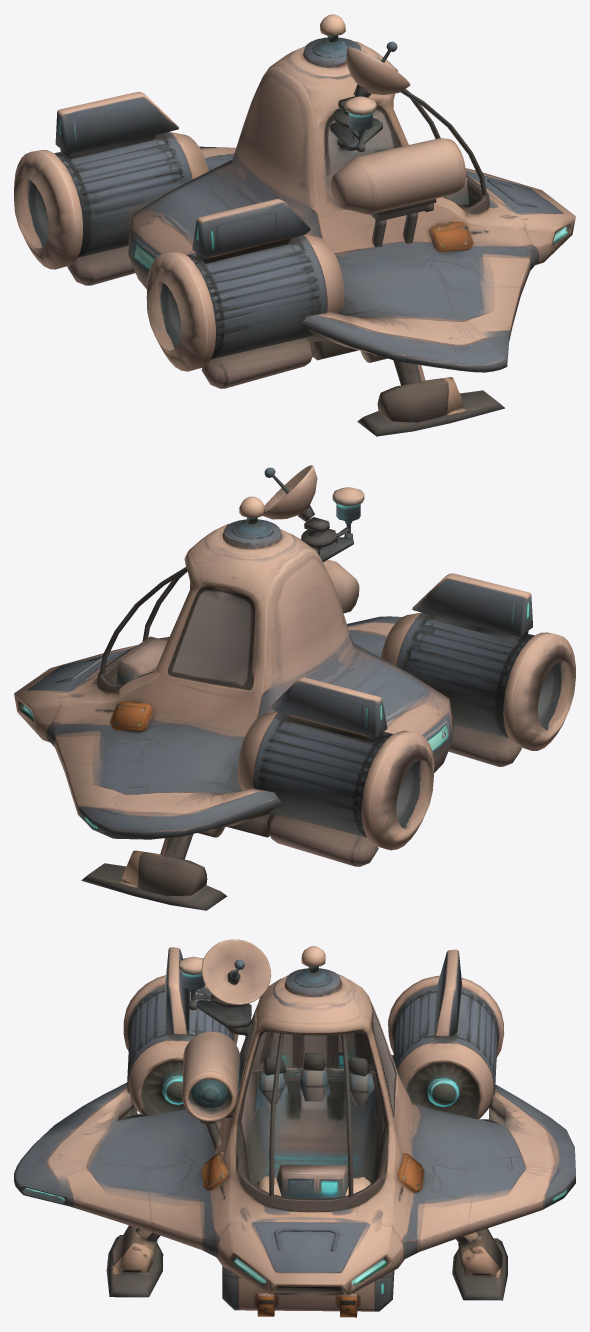
File: basic_ship.glb
3 renders of one model, top to bottom at view 1: azimuth 30°, elevation 25°; view 2: azimuth 150°, elevation 25°; view 3: azimuth 270°, elevation 25°, orthographic. The views are drawn at different scales.
Parts seen in each view (by area): view 1: tripo_node_f38e50ce-ac29-4995-b70e-f36f919aa259; view 2: tripo_node_f38e50ce-ac29-4995-b70e-f36f919aa259; view 3: tripo_node_f38e50ce-ac29-4995-b70e-f36f919aa259.
Boxes of the visible parts, box(x1,y1,x2,y2) form: tripo_node_f38e50ce-ac29-4995-b70e-f36f919aa259: box(14, 14, 575, 436); tripo_node_f38e50ce-ac29-4995-b70e-f36f919aa259: box(14, 465, 575, 910); tripo_node_f38e50ce-ac29-4995-b70e-f36f919aa259: box(14, 939, 575, 1317).
Size of the model in its own units: 0.914 by 0.6255 by 0.9998.
Materials: 1 (1 with a texture image).
